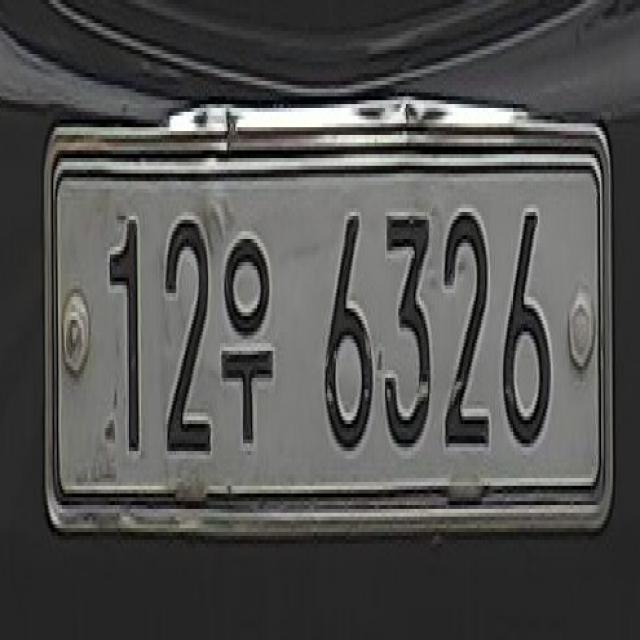1: (108, 208, 148, 449)
2: (438, 197, 494, 470), (164, 198, 214, 475)
3: (379, 194, 432, 459)
6: (500, 199, 558, 477), (322, 202, 375, 474)
license_plate: (32, 129, 618, 527)
u: (218, 206, 278, 457)
